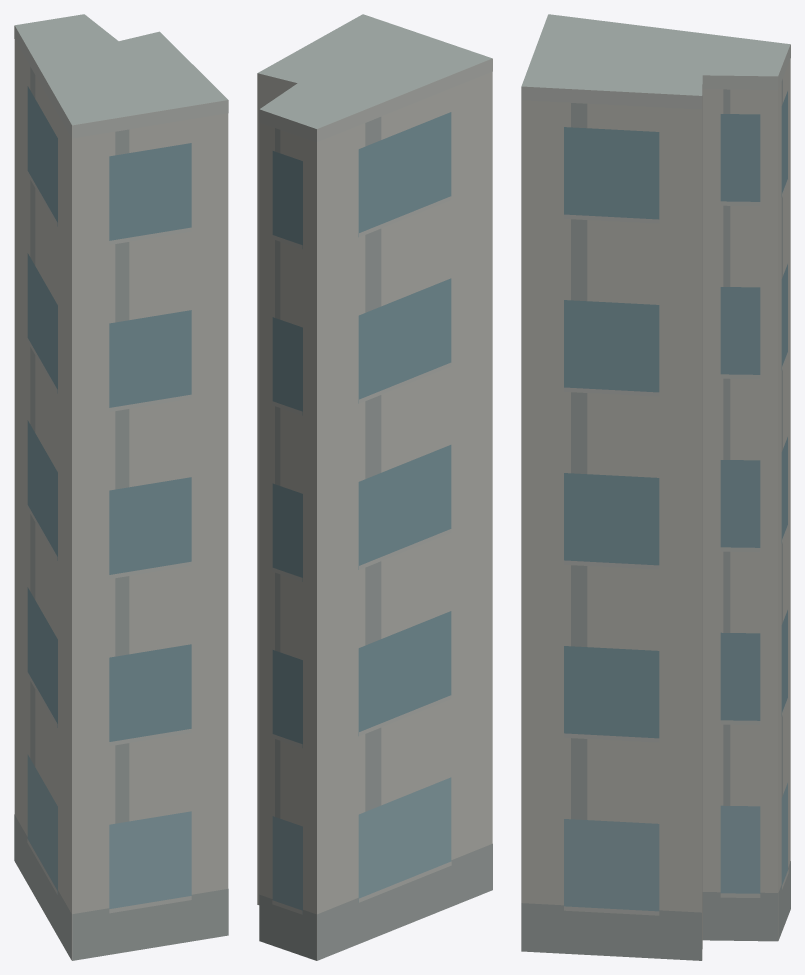
Rendered from survey-upis-32896438.glb.
The picture shows the model from 3 angles, left to right: view 1: azimuth 30°, elevation 25°; view 2: azimuth 150°, elevation 25°; view 3: azimuth 270°, elevation 25°; orthographic projection. The views are drawn at different scales.
Parts seen in each view (by area): view 1: survey-upis-32896438.tmp; view 2: survey-upis-32896438.tmp; view 3: survey-upis-32896438.tmp.
Boxes of the visible parts, box(x1,y1,x2,y2) form: survey-upis-32896438.tmp: box(14, 14, 228, 960); survey-upis-32896438.tmp: box(257, 14, 492, 960); survey-upis-32896438.tmp: box(521, 14, 790, 960).
Size of the model in its own units: 3.11 by 15.25 by 4.31.
